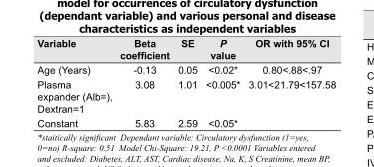table: (36, 37, 335, 128)
table column: (243, 37, 335, 128), (36, 37, 115, 128), (115, 37, 173, 128), (200, 37, 243, 128), (173, 37, 200, 128)
table column header: (36, 37, 335, 62)
table row: (36, 76, 335, 115), (36, 37, 335, 62), (36, 62, 335, 76), (36, 115, 335, 128)
